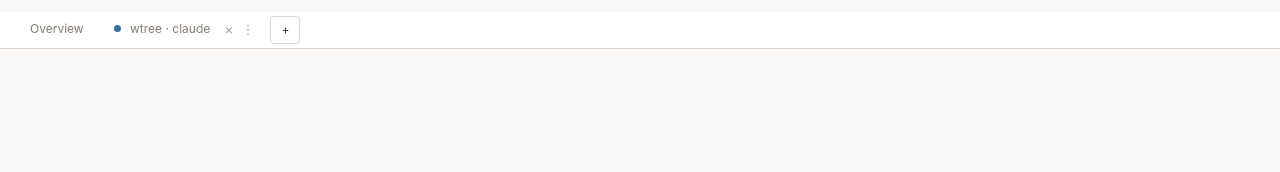
Test: AgentSessionTabsComponent › omits only the Folder menu item once the overflow menu opens away from localhost, keeping Open IDE and Close (#497, #655)
Click the button with class "tab-menu-trigger" at (251, 29), box [242,20,260,38]
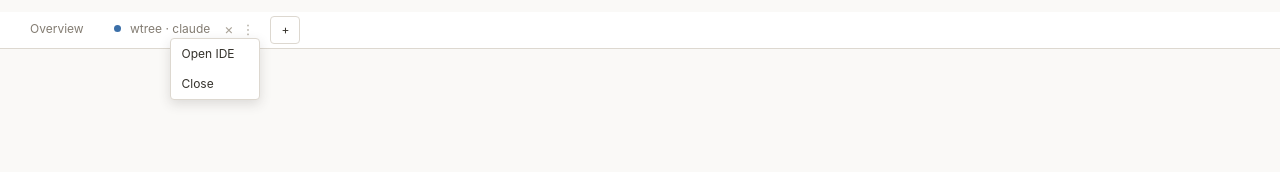
Now the menu item with class "tab-open-ide" is shown, box [172,38,260,68]
Now the menu item with class "tab-close" is shown, box [172,68,260,98]
